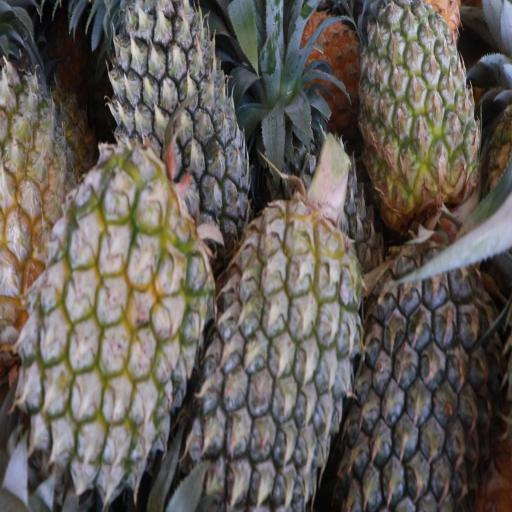------------------------------: (32, 158, 209, 487), (0, 0, 94, 340), (357, 0, 478, 218)
